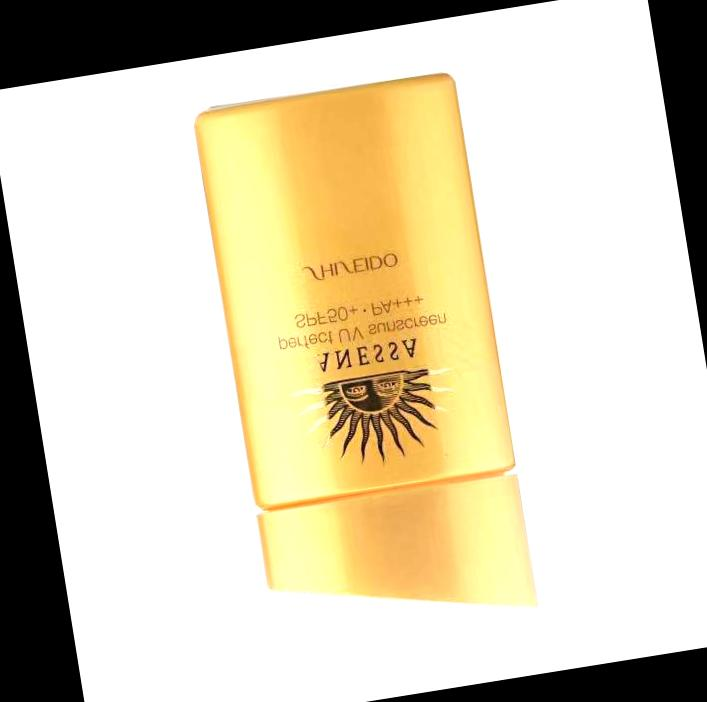cosmetic: (194, 72, 542, 665)
